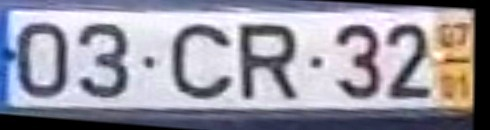0: (13, 19, 72, 102)
2: (382, 21, 433, 103)
3: (72, 20, 134, 103), (332, 22, 385, 102)
C: (168, 21, 238, 103)
R: (235, 24, 300, 104)
